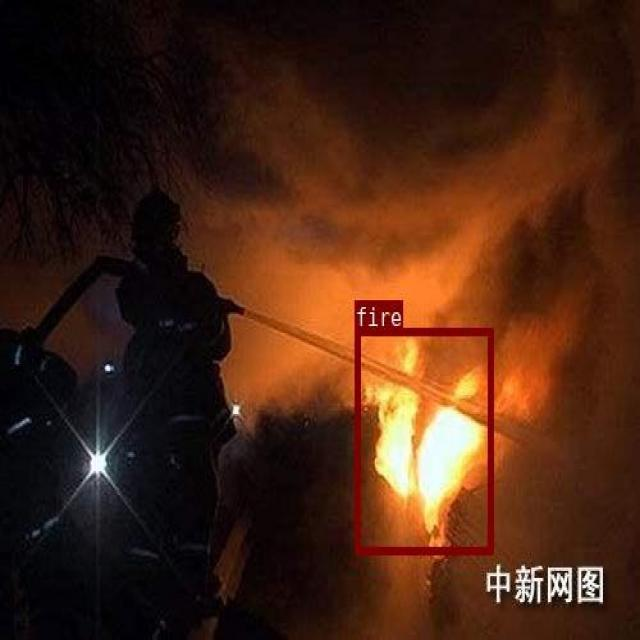fire: (354, 328, 492, 553)
